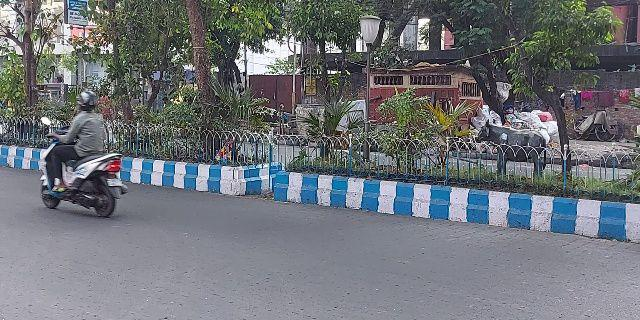Motorbike: (31, 88, 132, 224)
